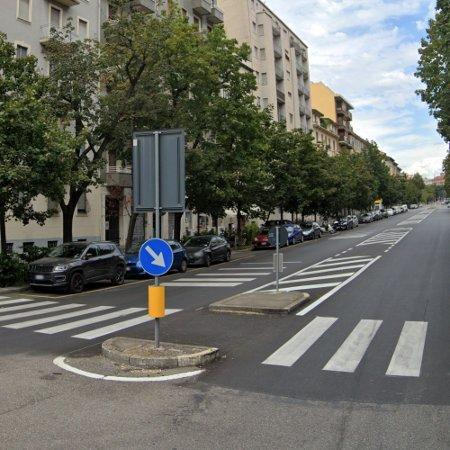crosswalks: (262, 316, 427, 377), (0, 296, 184, 339)
